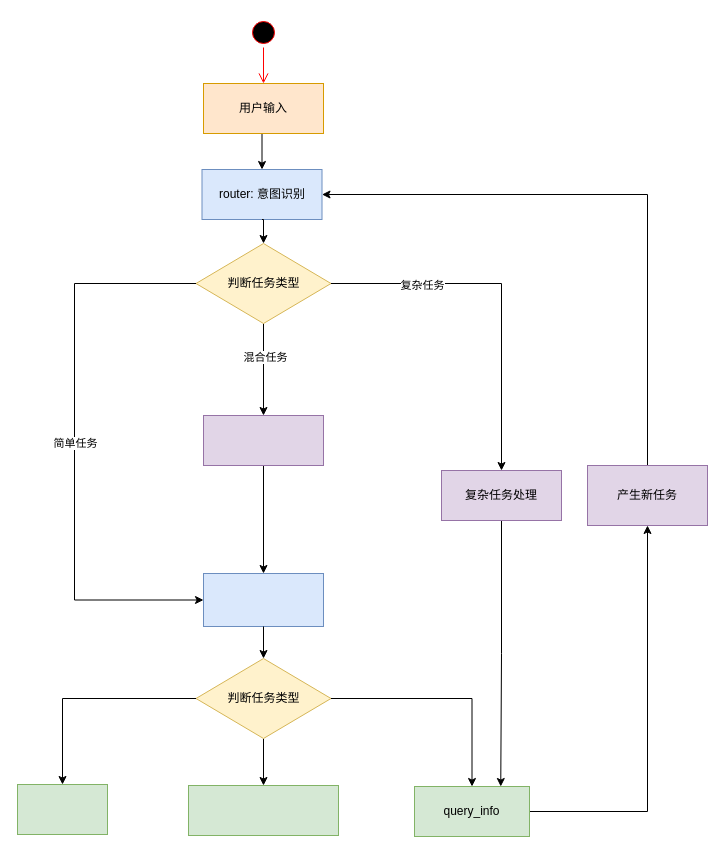
Some shapes in this 725 by 854 pixel diagram are drawn without their labels. Here are the shapes that lost their labels. From the top down, the box of each, then its label:
(202, 414, 324, 466): 拆分子任务
(202, 572, 324, 626): 简单任务处理
(16, 784, 108, 834): chat
(188, 784, 338, 836): smart_home_control
